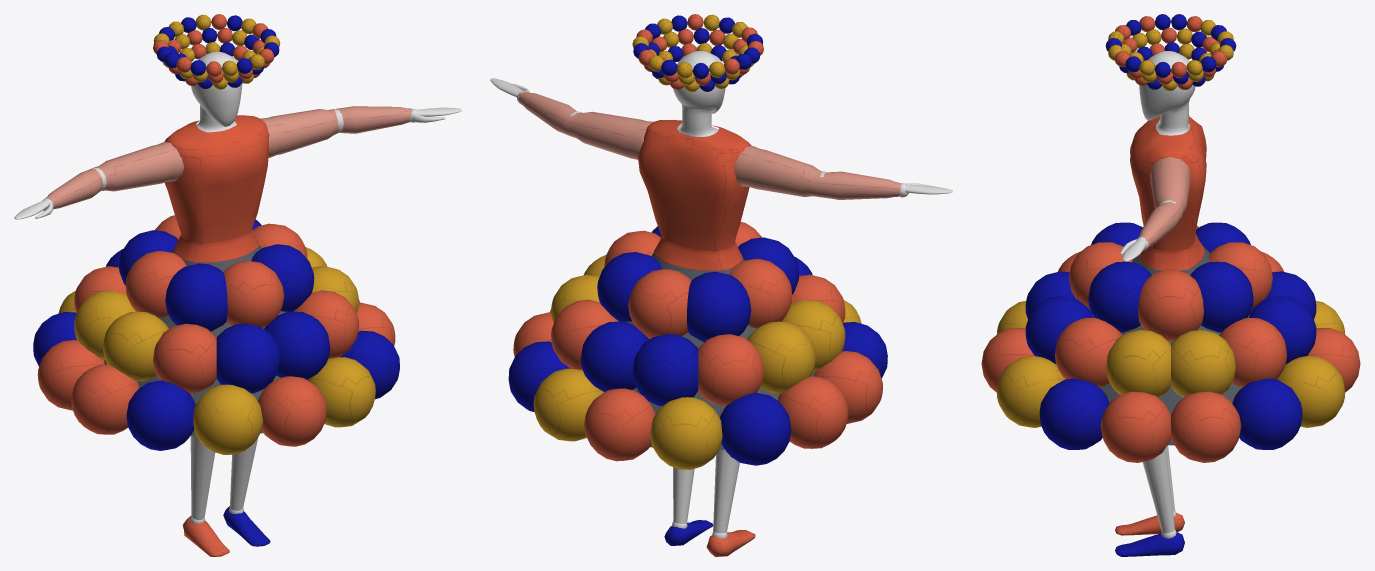
Rendered from modelCompilation_ballDress.gltf.
The picture shows the model from 3 angles, left to right: view 1: azimuth 30°, elevation 25°; view 2: azimuth 150°, elevation 25°; view 3: azimuth 270°, elevation 25°; orthographic projection. The views are drawn at different scales.
Visible parts, largest first — view 1: BallDress_Costume, BallDress_Body; view 2: BallDress_Costume, BallDress_Body; view 3: BallDress_Costume, BallDress_Body.
Part boxes in pixels (bbox=[...]): BallDress_Costume: bbox=[33, 14, 412, 556]; BallDress_Body: bbox=[14, 51, 461, 523]; BallDress_Costume: bbox=[508, 14, 901, 556]; BallDress_Body: bbox=[490, 51, 952, 538]; BallDress_Costume: bbox=[981, 14, 1360, 556]; BallDress_Body: bbox=[1120, 48, 1195, 538].
Size of the model in its own units: 1.73 by 1.83 by 1.25.
2 materials, 1 textured.
